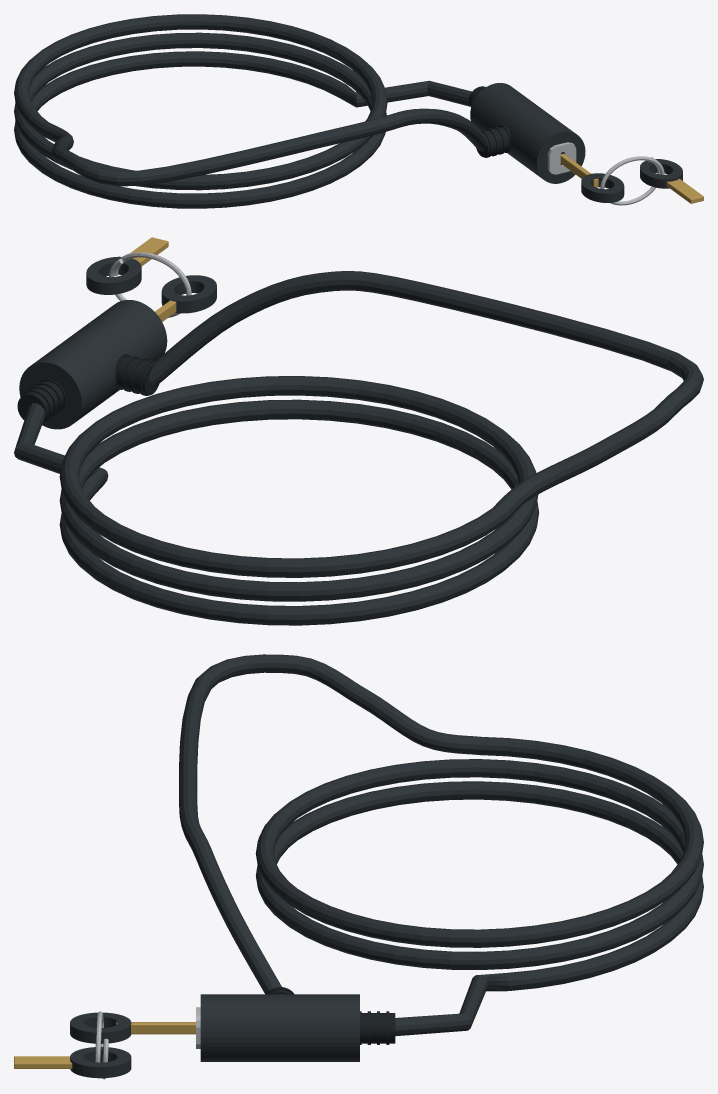
Rendered from full.fbx.
3 renders of one model, top to bottom at view 1: azimuth 30°, elevation 25°; view 2: azimuth 150°, elevation 25°; view 3: azimuth 270°, elevation 25°, orthographic. The views are drawn at different scales.
Visible parts, largest first — view 1: One continuous coiled cable, Cylindrical lock body, Oval key head 0, Oval key head 1, Key cylinder slot rim, Small split key ring, Loose plain key blade, Side flexible boot, Inserted plain key blade; view 2: One continuous coiled cable, Cylindrical lock body, Oval key head 1, Oval key head 0, Side flexible boot, Small split key ring, End flexible boot; view 3: One continuous coiled cable, Cylindrical lock body, Oval key head 1, Oval key head 0, Inserted plain key blade, End flexible boot, Loose plain key blade.
Boxes of the visible parts, <box> form: One continuous coiled cable: <box>14,14,487,208</box>; Cylindrical lock body: <box>470,83,585,183</box>; Oval key head 0: <box>581,173,624,202</box>; Oval key head 1: <box>640,159,682,188</box>; Key cylinder slot rim: <box>547,142,576,174</box>; Small split key ring: <box>600,156,664,205</box>; Loose plain key blade: <box>666,178,703,203</box>; Side flexible boot: <box>476,127,509,157</box>; Inserted plain key blade: <box>560,153,598,187</box>; One continuous coiled cable: <box>14,271,703,625</box>; Cylindrical lock body: <box>19,300,167,429</box>; Oval key head 1: <box>86,256,141,294</box>; Oval key head 0: <box>161,275,216,313</box>; Side flexible boot: <box>116,356,159,395</box>; Small split key ring: <box>109,252,191,317</box>; End flexible boot: <box>17,381,63,420</box>; One continuous coiled cable: <box>179,654,703,1036</box>; Cylindrical lock body: <box>200,994,359,1061</box>; Oval key head 1: <box>70,1047,131,1078</box>; Oval key head 0: <box>70,1012,131,1043</box>; Inserted plain key blade: <box>116,1022,195,1034</box>; End flexible boot: <box>361,1013,395,1043</box>; Loose plain key blade: <box>14,1056,72,1068</box>.
Bounding box in the file's own units: 48.46 × 9.91 × 44.95.
